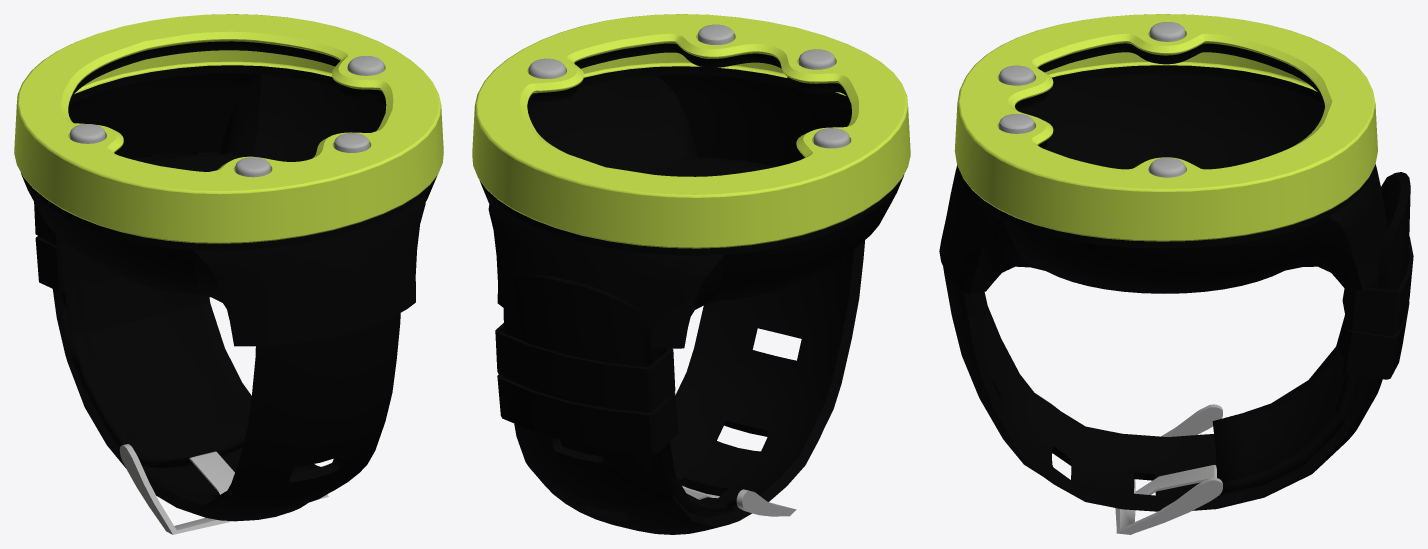
Rendered from SuntoDiveComputer_highPoly.fbx.
3 views of the same model, side by side, from view 1: azimuth 30°, elevation 25°; view 2: azimuth 150°, elevation 25°; view 3: azimuth 270°, elevation 25° (orthographic). The views are drawn at different scales.
Parts seen in each view (by area): view 1: footpiece2; view 2: footpiece2; view 3: footpiece2.
Boxes of the visible parts, left/top/right/bottom form: footpiece2: left=14, top=14, right=443, bottom=534; footpiece2: left=472, top=14, right=910, bottom=534; footpiece2: left=939, top=14, right=1413, bottom=534.
Bounding box in the file's own units: 7.08 × 7.92 × 7.45.
